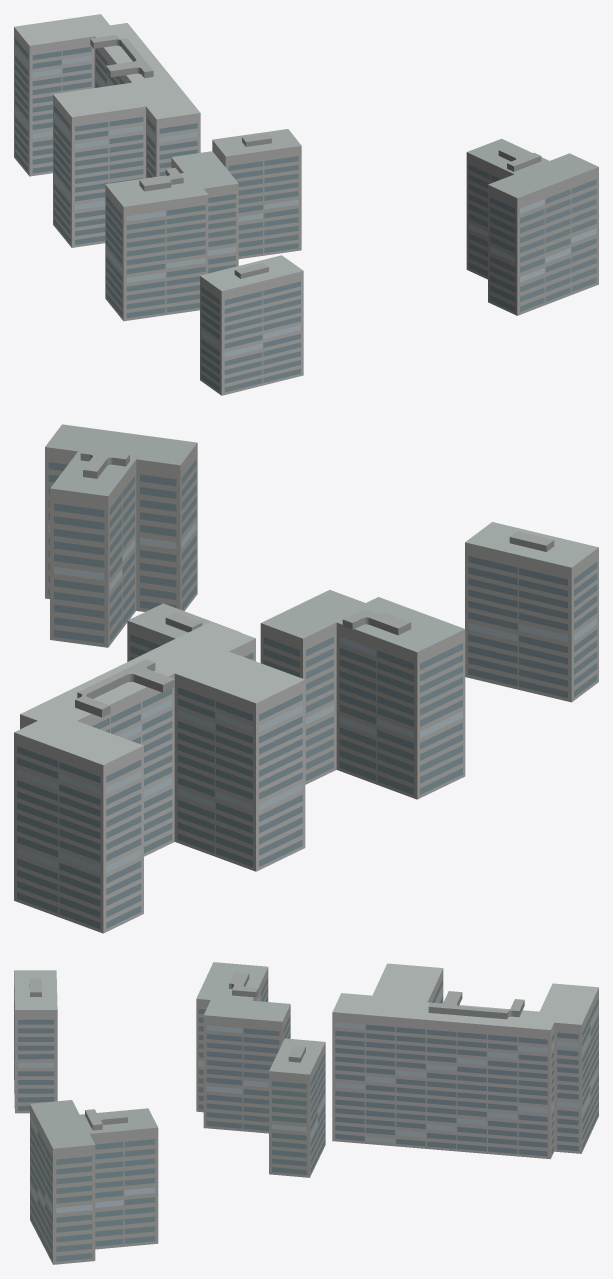
Rendered from apt-a10024640.glb.
The picture shows the model from 3 angles, top to bottom: view 1: azimuth 30°, elevation 25°; view 2: azimuth 150°, elevation 25°; view 3: azimuth 270°, elevation 25°; orthographic projection. The views are drawn at different scales.
Visible parts, largest first — view 1: apt-a10024640; view 2: apt-a10024640; view 3: apt-a10024640.
Boxes of the visible parts, <box> form: apt-a10024640: <box>14,14,598,395</box>; apt-a10024640: <box>14,424,598,933</box>; apt-a10024640: <box>14,962,598,1264</box>.
Bounding box in the file's own units: 122 × 40 × 157.
